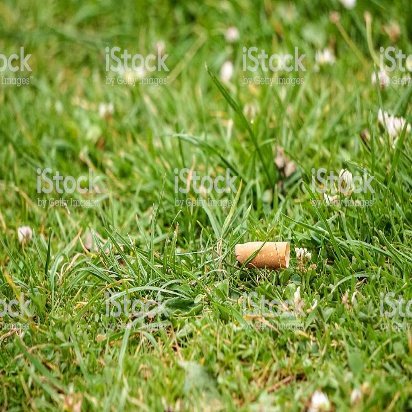cigarette: (232, 238, 294, 268)
